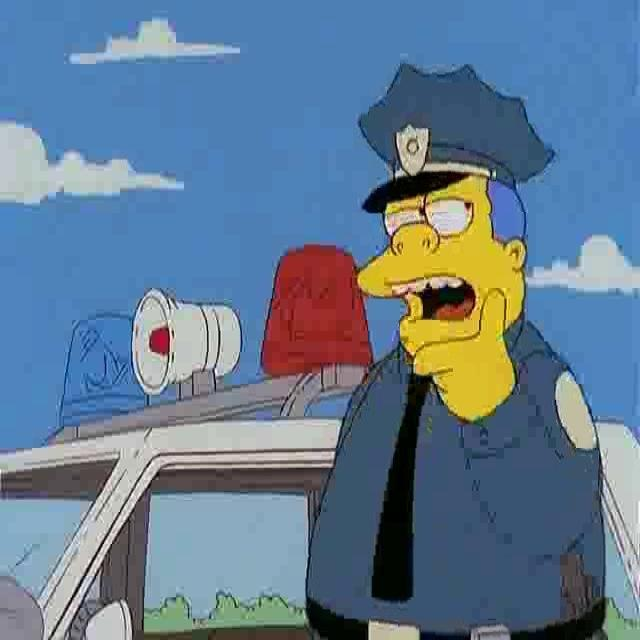Chief Wiggam: (354, 62, 558, 362)
